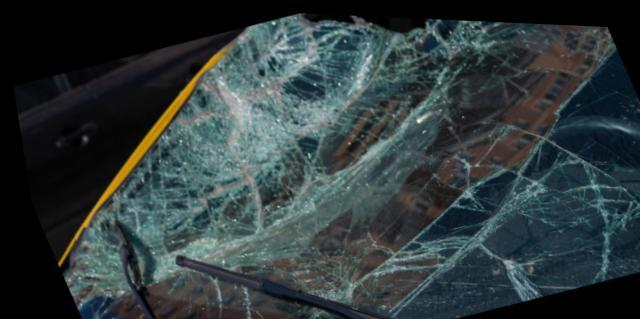glass shatter: (54, 10, 640, 319)
